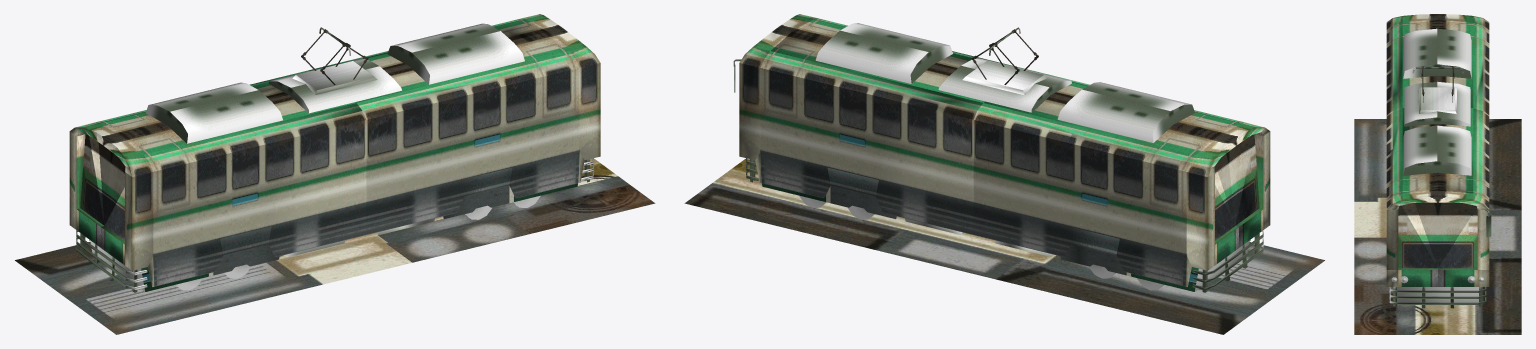
File: farm_item_09.fbx
3 views of the same model, side by side, from view 1: azimuth 30°, elevation 25°; view 2: azimuth 150°, elevation 25°; view 3: azimuth 270°, elevation 25° (orthographic). The views are drawn at different scales.
Parts seen in each view (by area): view 1: farm_item_09; view 2: farm_item_09; view 3: farm_item_09.
Part boxes in pixels (<box>): farm_item_09: <box>15,14,655,334</box>; farm_item_09: <box>684,14,1324,334</box>; farm_item_09: <box>1354,14,1521,334</box>.
Size of the model in its own units: 13.26 by 4.6 by 4.35.
